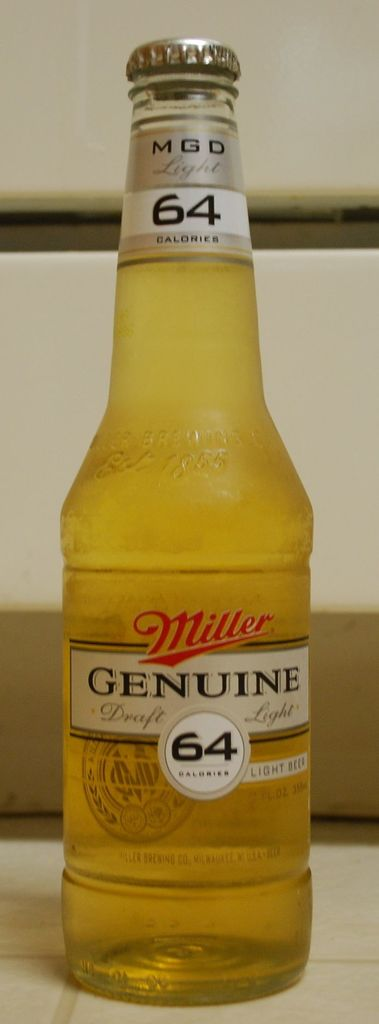Beer: (57, 44, 316, 991)
